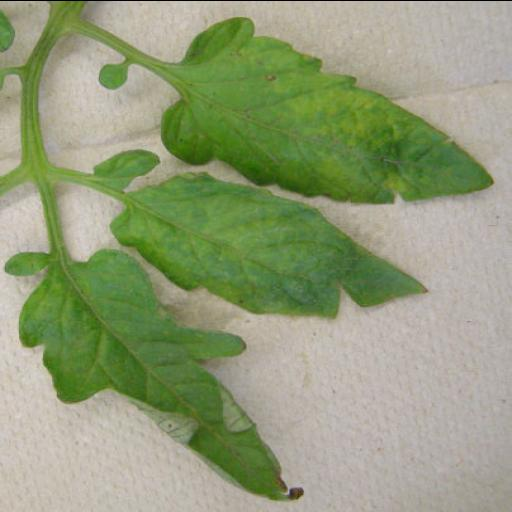Mosaic Virus: (16, 252, 306, 509), (147, 10, 502, 208), (120, 178, 430, 308)
